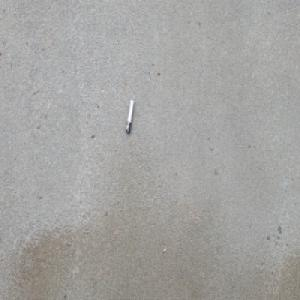Battery: (124, 98, 134, 134)
